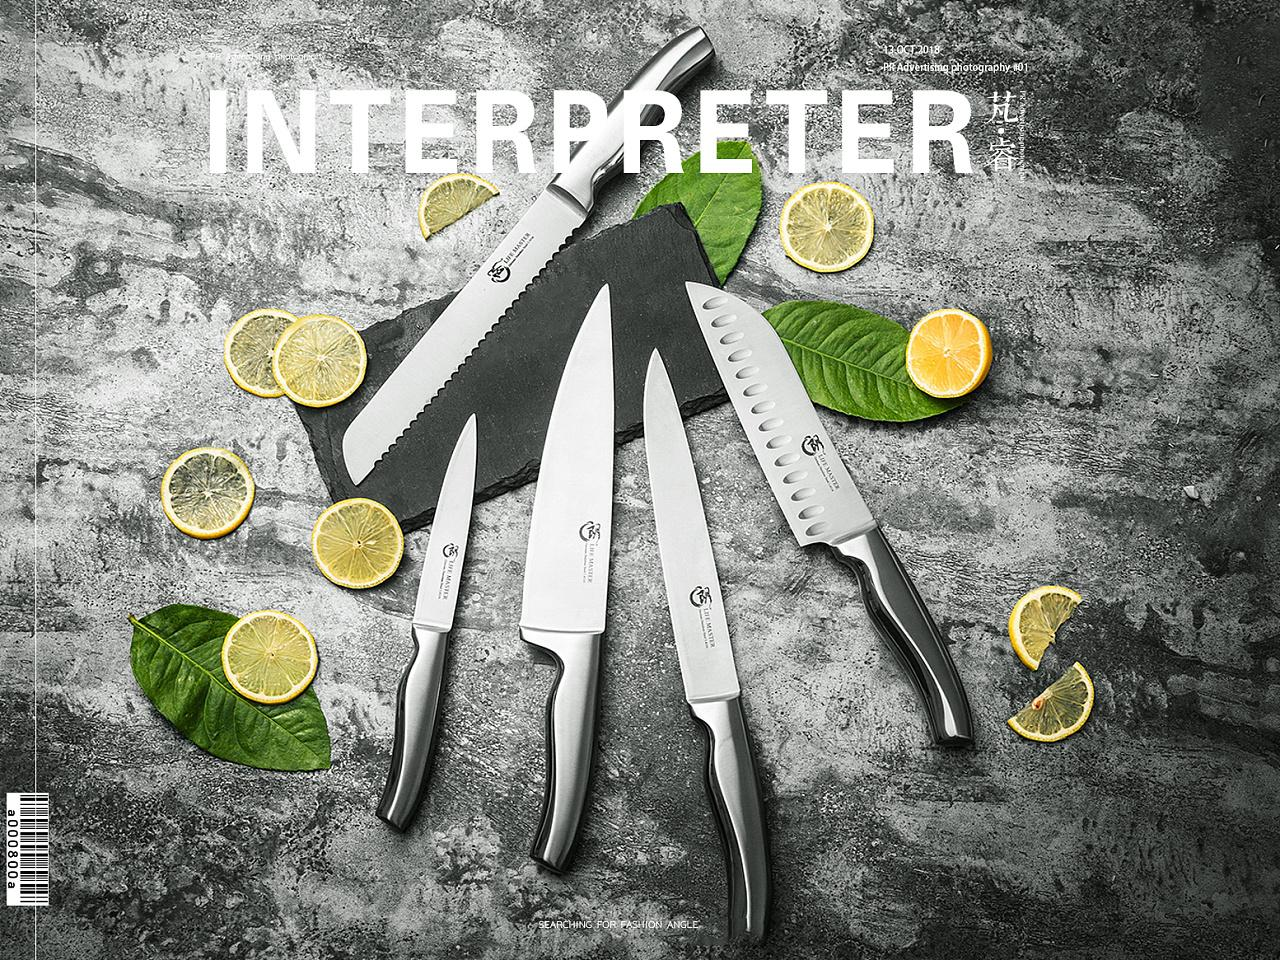knife: (306, 65, 986, 917)
